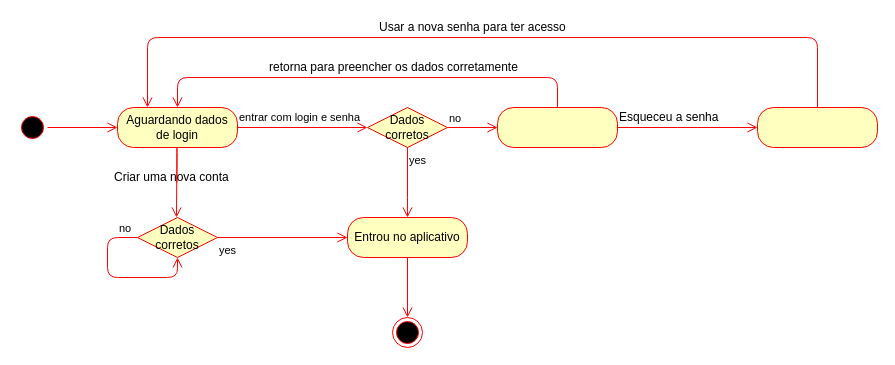
This 895x365 diagram has some shape labels left out. The centre of each missing label's shape, as x and y in pixels:
"Criar uma nova senha" goes at (817,127).
"Dados invalidos" goes at (557,127).
